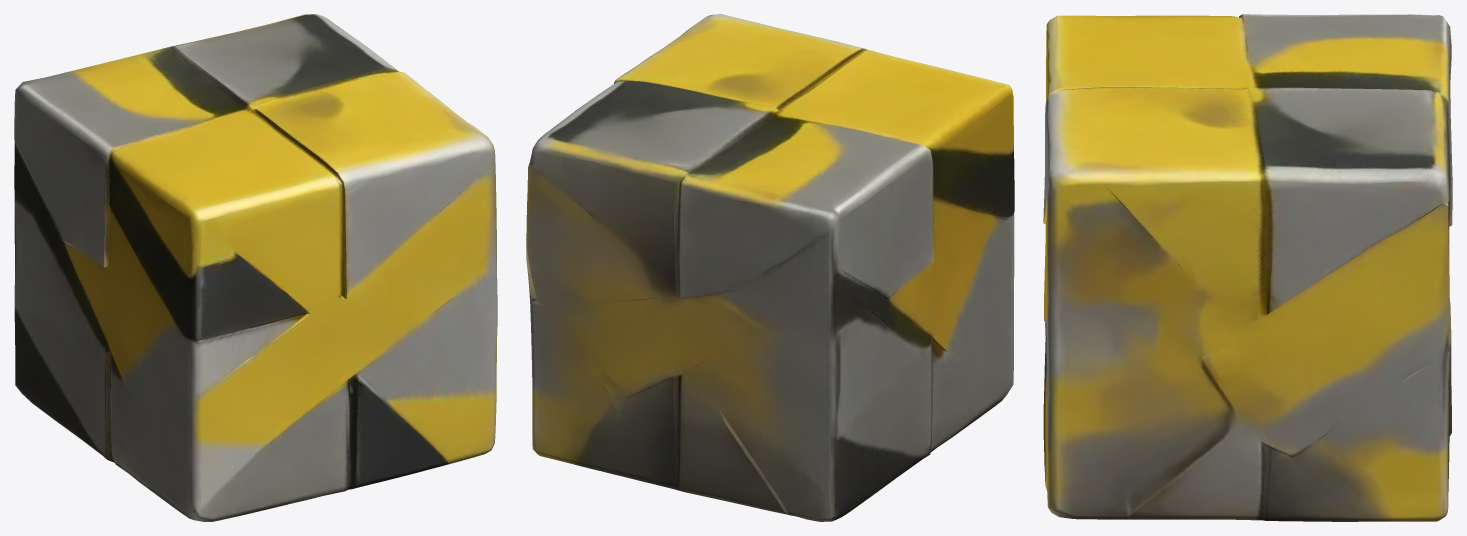
Rendered from m2HazardBlock.glb.
3 renders of one model, left to right at view 1: azimuth 30°, elevation 25°; view 2: azimuth 150°, elevation 25°; view 3: azimuth 270°, elevation 25°, orthographic. The views are drawn at different scales.
Parts seen in each view (by area): view 1: model; view 2: model; view 3: model.
Part boxes in pixels (x1,y1,x2,y2): model: (14,14,497,521); model: (526,14,1014,521); model: (1043,14,1452,521).
Size of the model in its own units: 1.85 by 1.82 by 1.9.
1 material, 1 textured.
